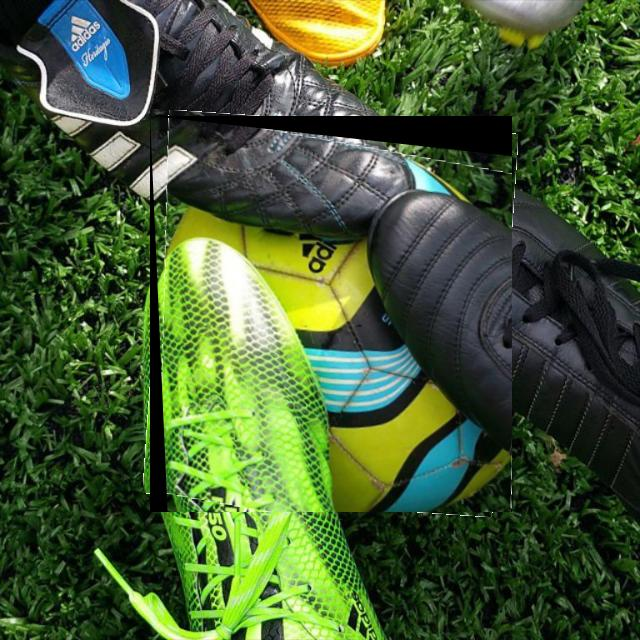Football: (150, 116, 512, 512)
